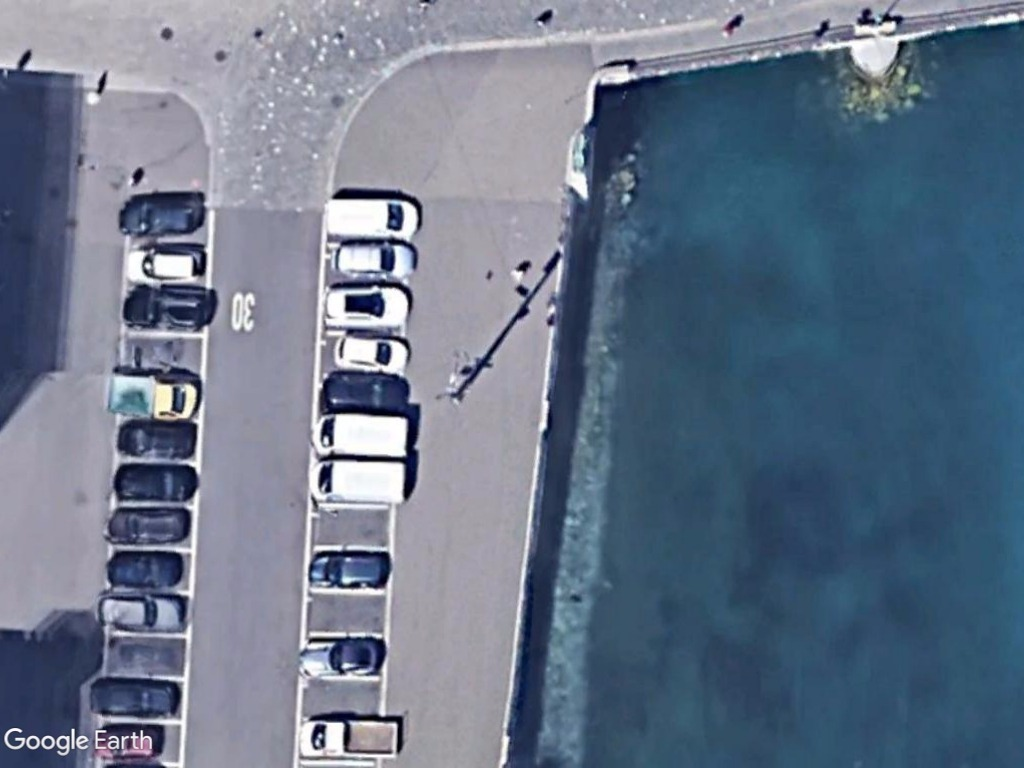car: (91, 590, 186, 635), (329, 330, 412, 374), (331, 240, 416, 281), (125, 246, 204, 285)
van: (320, 192, 422, 243), (306, 456, 406, 504), (314, 414, 417, 460)
